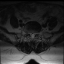CCS_normal: (31, 30, 33, 40)
LFS_stenosis: (35, 29, 37, 36)
LLS_normal: (33, 30, 35, 39)
RFS_stenosis: (27, 29, 29, 35)
RLS_normal: (29, 30, 31, 38)
